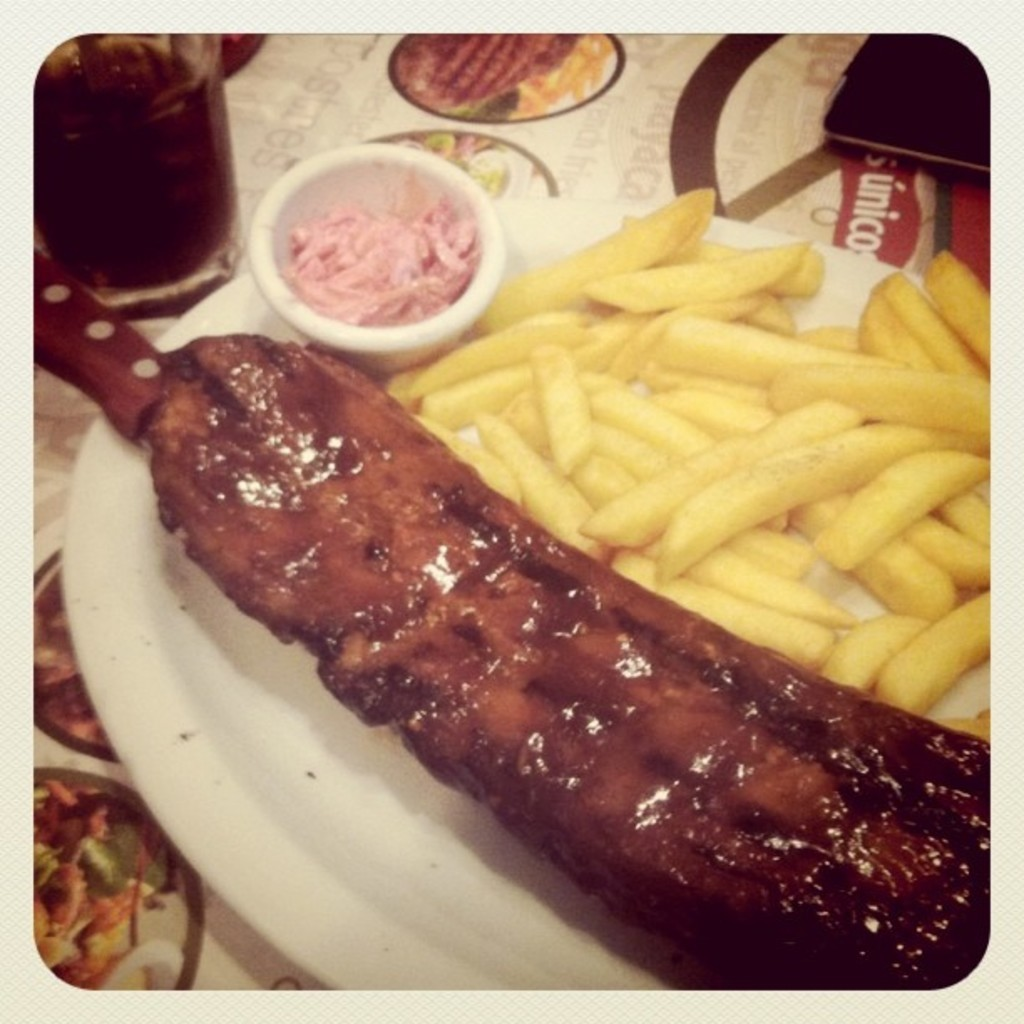French fries: (386, 187, 990, 743)
